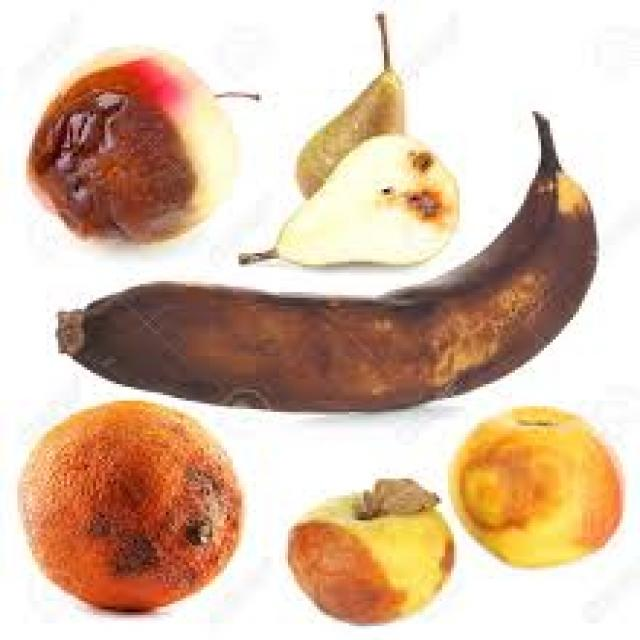organic waste: (53, 109, 596, 409), (15, 398, 238, 609), (23, 42, 256, 242), (232, 126, 462, 264), (445, 403, 620, 565), (288, 11, 407, 198), (282, 490, 451, 620), (364, 476, 439, 517)
